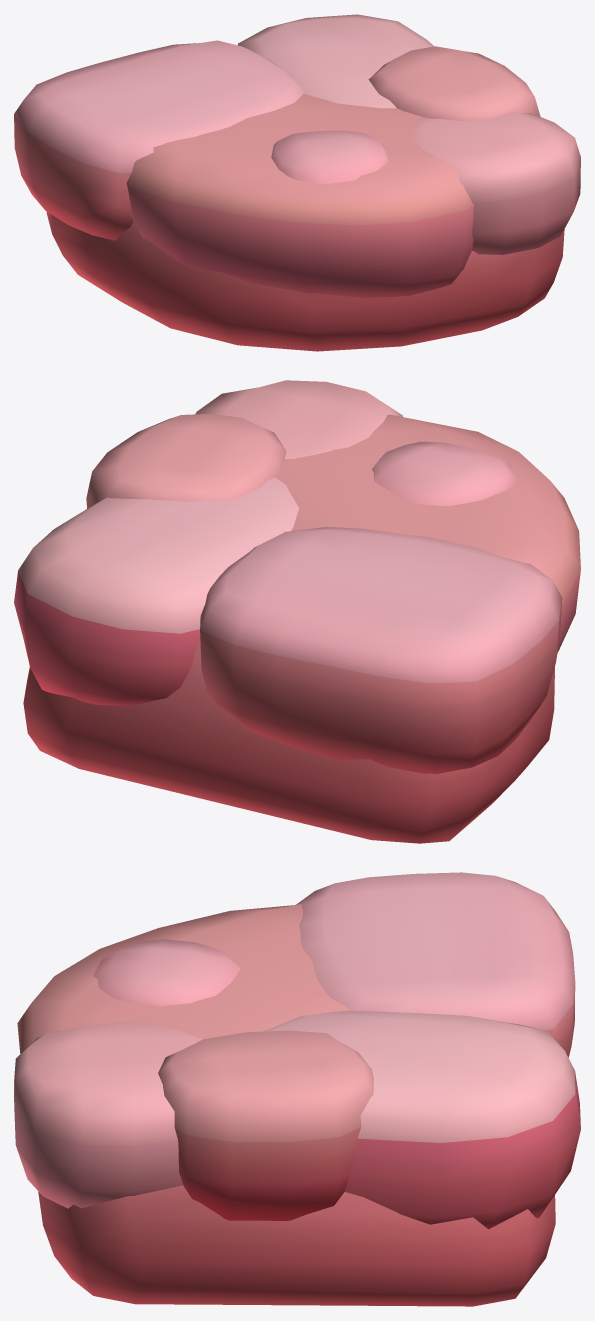
Rendered from Platform_B_07.glb.
3 views of the same model, one above another, from view 1: azimuth 30°, elevation 25°; view 2: azimuth 150°, elevation 25°; view 3: azimuth 270°, elevation 25° (orthographic). The views are drawn at different scales.
Visible parts, largest first — view 1: Platform_B_07; view 2: Platform_B_07; view 3: Platform_B_07.
Part boxes in pixels (<box>): Platform_B_07: <box>14,14,580,351</box>; Platform_B_07: <box>14,380,580,843</box>; Platform_B_07: <box>14,872,580,1306</box>.
Bounding box in the file's own units: 6.86 × 3 × 6.6.
1 material, 1 textured.
